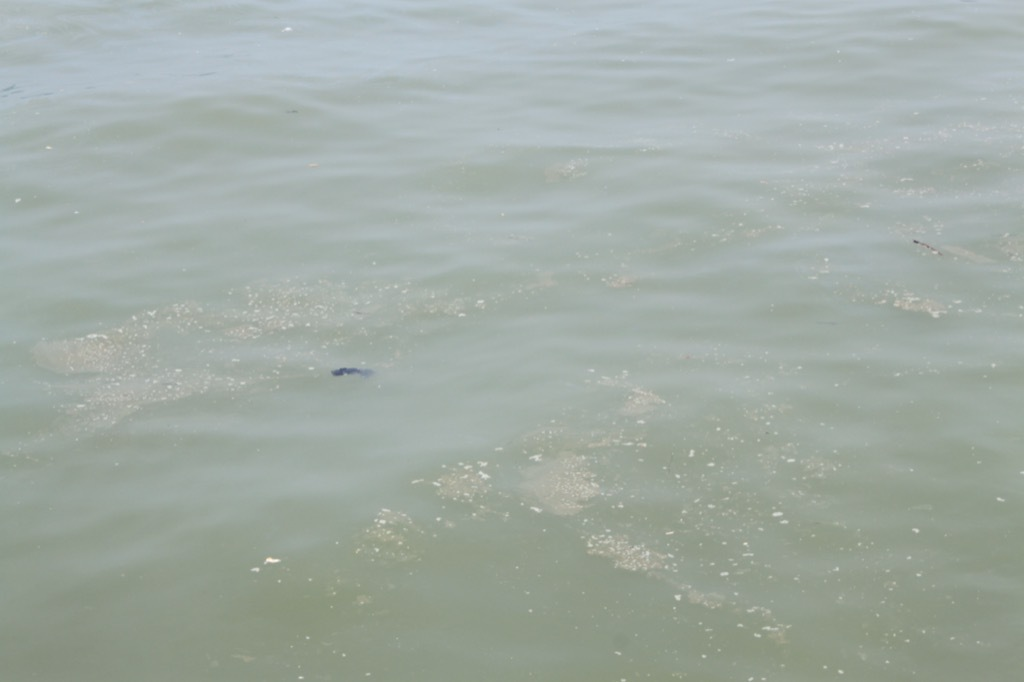organic: (899, 216, 963, 271)
plastic: (326, 358, 386, 388), (255, 548, 290, 573), (239, 559, 269, 583)
